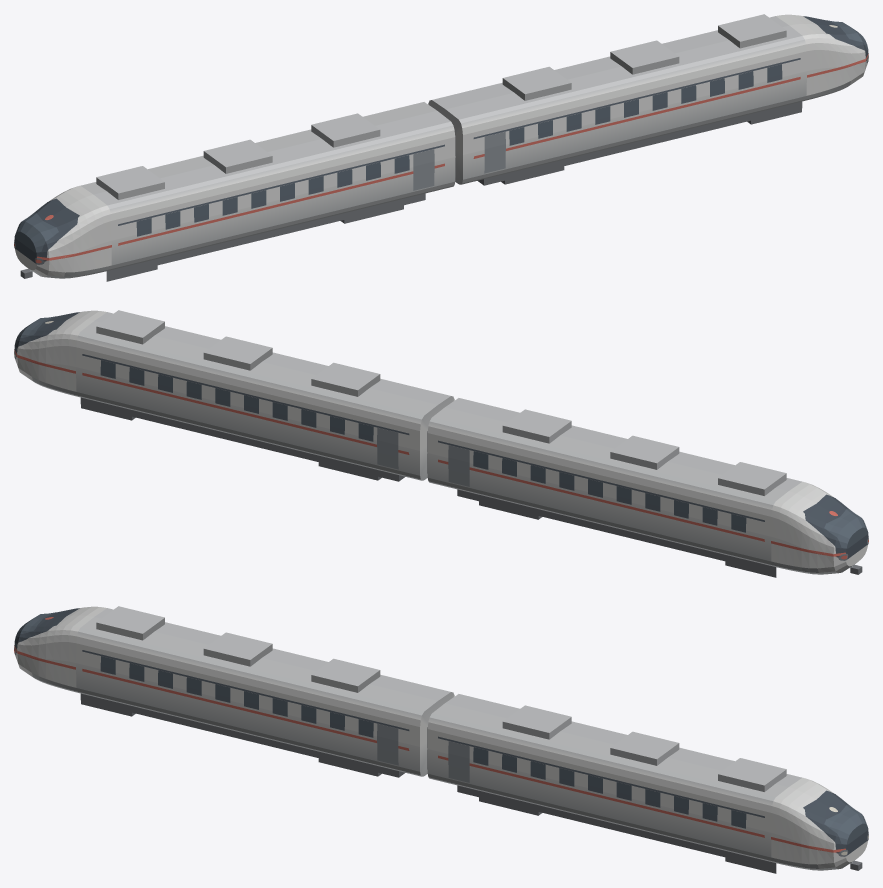
File: 01_TRA_modern_3x2-01.glb
3 views of the same model, one above another, from view 1: azimuth 30°, elevation 25°; view 2: azimuth 150°, elevation 25°; view 3: azimuth 330°, elevation 25° (orthographic).
Size of the model in its own units: 39.48 by 3.77 by 2.96.
